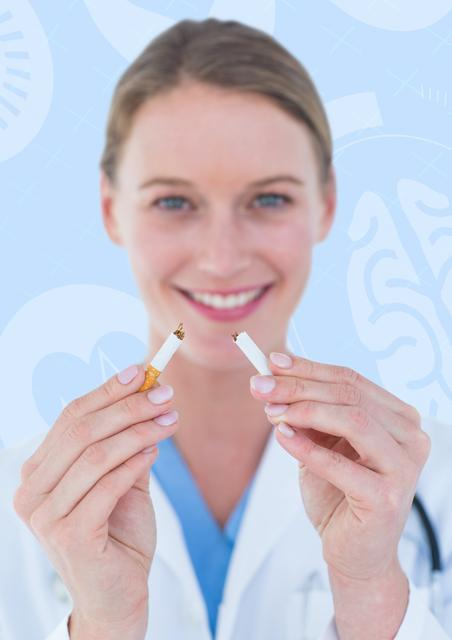cigarette: (140, 320, 192, 396), (229, 327, 283, 388)
